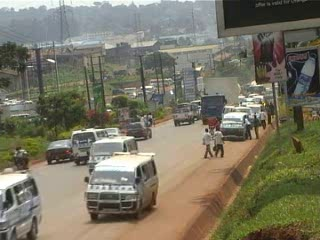Car: (41, 136, 76, 165), (124, 120, 155, 142), (102, 125, 126, 141)
Motorcycle: (12, 143, 32, 173)
